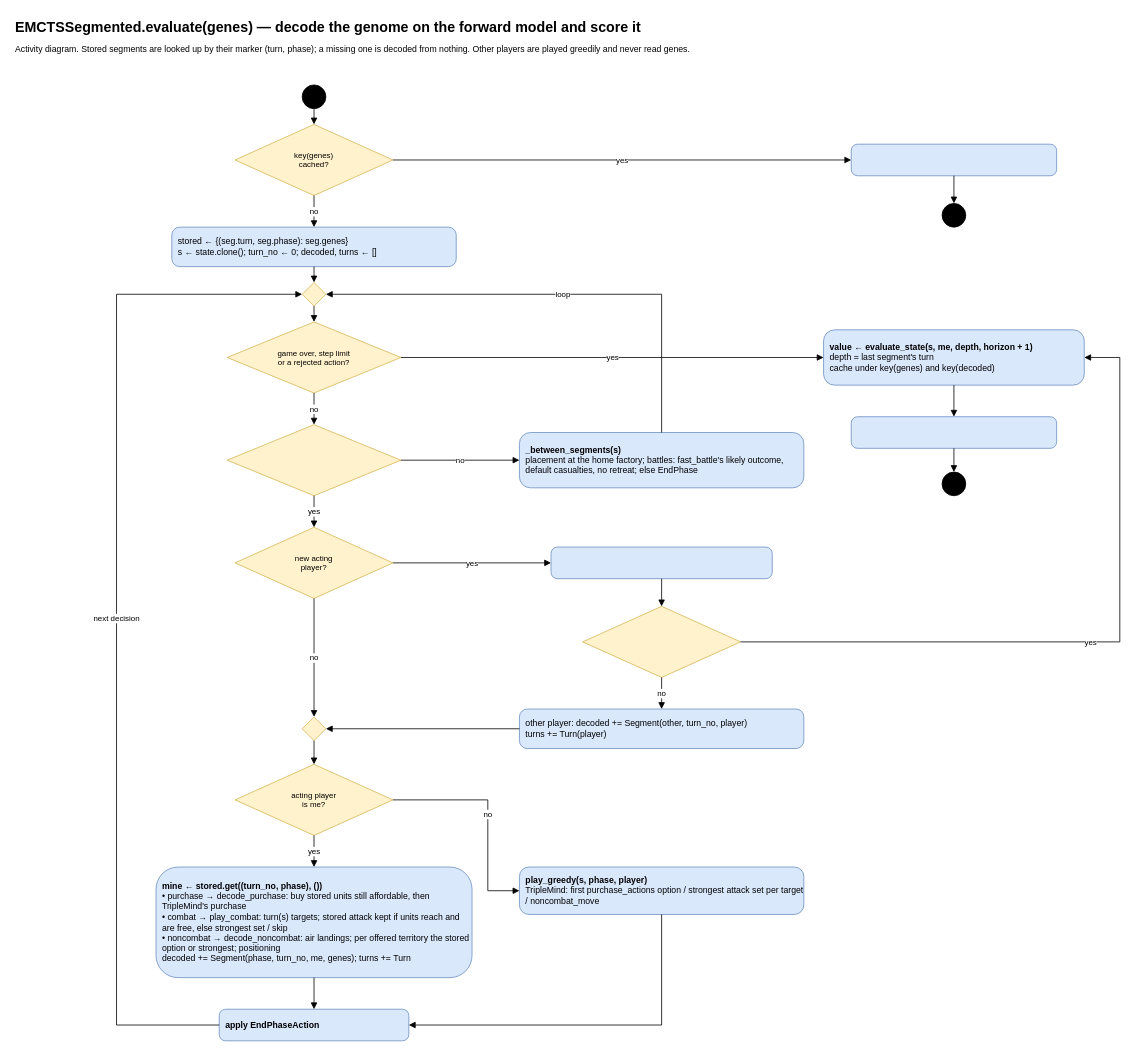
This 1140x1055 diagram has some shape labels left out. Here are the shapes that lost their labels. From the top down, the centre of each, then its label:
[953,159]: return cached (value, decoded, turns)
[953,432]: return (value, decoded, turns)
[313,460]: phase_of(s) is purchase, combat or noncombat?
[661,562]: turn_no += 1 (unless the first)
[661,641]: turn_no > EMCTS_HORIZON?
